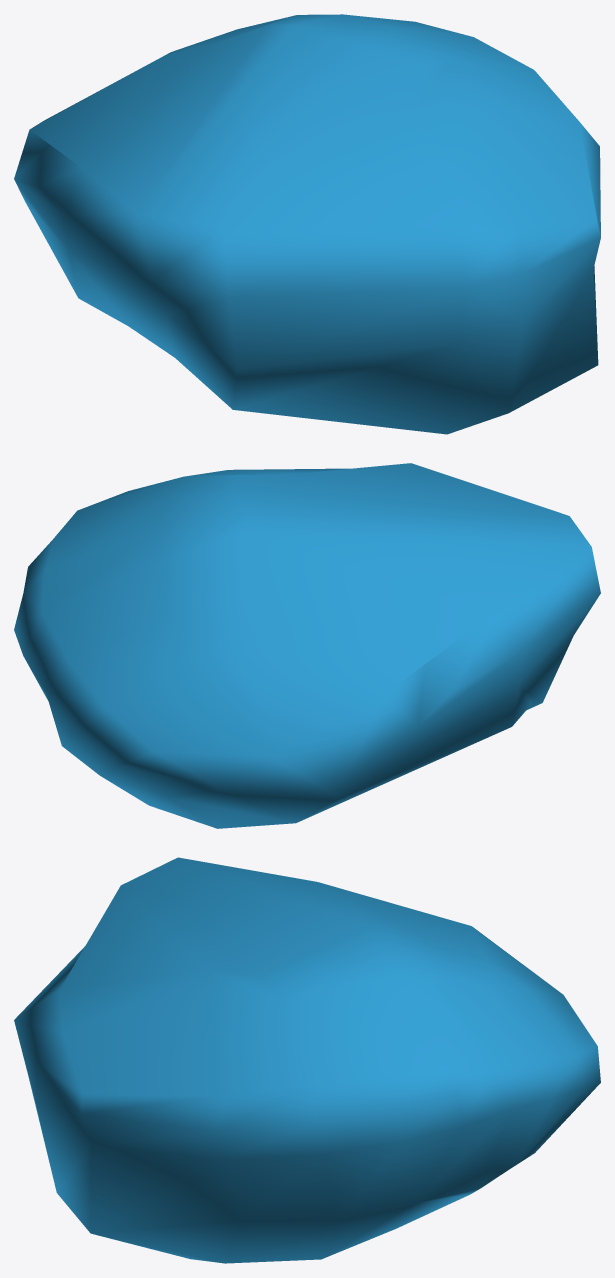
File: Rock_S_06_Lod1.fbx
3 renders of one model, top to bottom at view 1: azimuth 30°, elevation 25°; view 2: azimuth 150°, elevation 25°; view 3: azimuth 270°, elevation 25°, orthographic. The views are drawn at different scales.
Parts seen in each view (by area): view 1: Rock_S_06_Lod1; view 2: Rock_S_06_Lod1; view 3: Rock_S_06_Lod1.
Part boxes in pixels (x1,y1,x2,y2): Rock_S_06_Lod1: (14, 14, 600, 434); Rock_S_06_Lod1: (14, 463, 600, 828); Rock_S_06_Lod1: (14, 857, 600, 1263).
Size of the model in its own units: 194 by 121 by 223.
